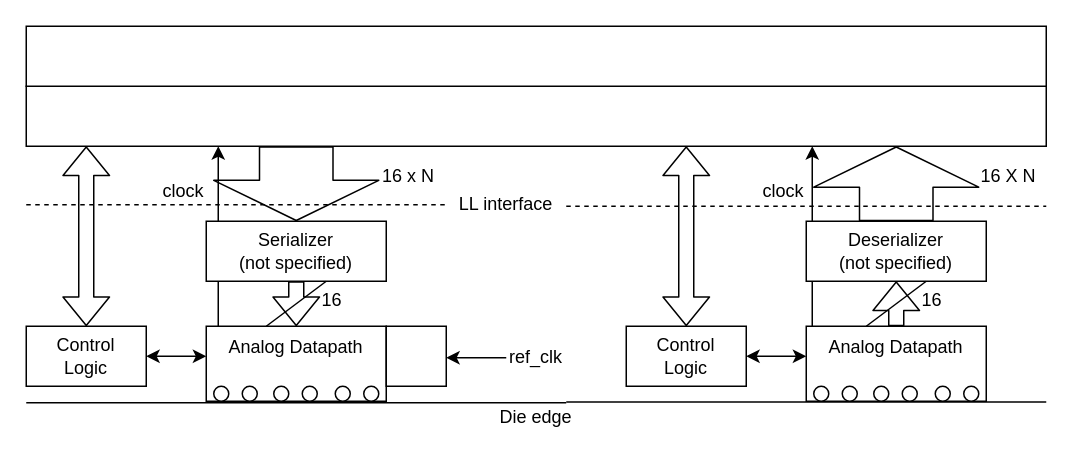
This 1074x459 diagram has some shape labels left out. The shapes that lost their labels are listed below. From the top down, each one's centre as x and y in pixels, then its label:
At (x=535, y=55): "Core Logic".
At (x=535, y=115): "Link Layer".
At (x=415, y=355): "PLL".
